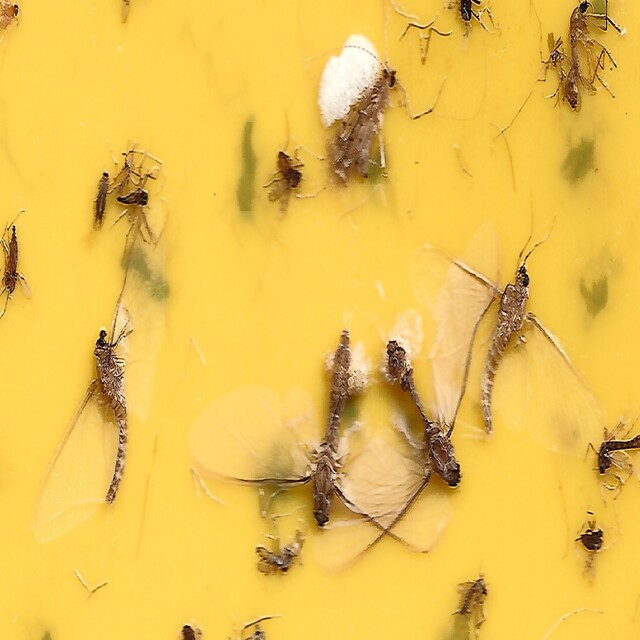Ephemeroptera: (317, 220, 503, 576), (193, 326, 445, 557), (32, 188, 169, 540), (412, 233, 608, 447)
Plecoptera: (331, 64, 398, 191)
